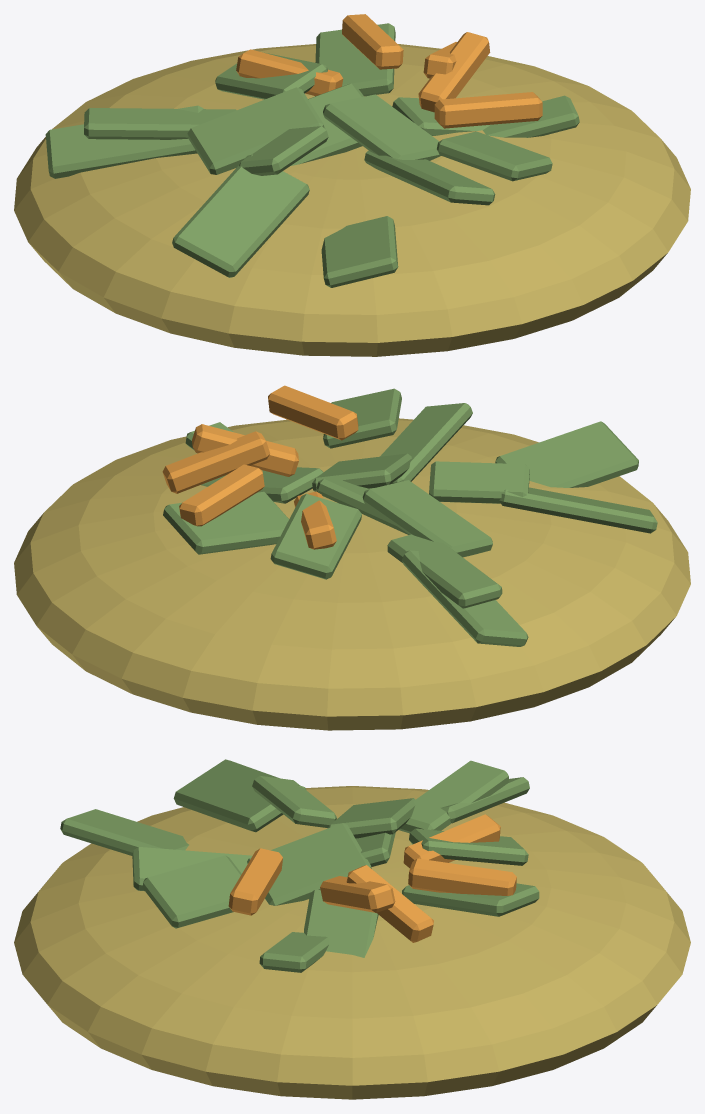
File: Food_sayur_singkong.fbx
3 renders of one model, top to bottom at view 1: azimuth 30°, elevation 25°; view 2: azimuth 150°, elevation 25°; view 3: azimuth 270°, elevation 25°, orthographic.
Parts seen in each view (by area): view 1: Food_sayur_singkong; view 2: Food_sayur_singkong; view 3: Food_sayur_singkong.
Boxes of the visible parts, x1,y1,x2,y2 form: Food_sayur_singkong: (14,14,690,356); Food_sayur_singkong: (14,385,690,730); Food_sayur_singkong: (14,759,690,1099).
Size of the model in its own units: 0.14 by 0.0434 by 0.14.
